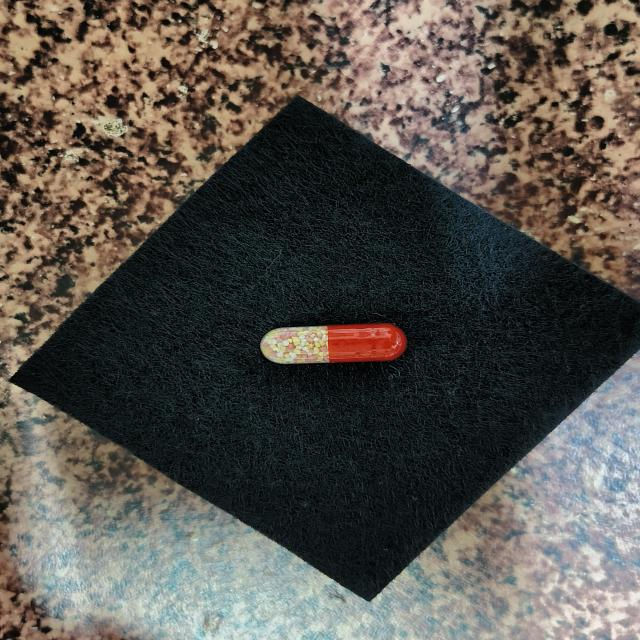Intact Capsule: (260, 323, 407, 364)
